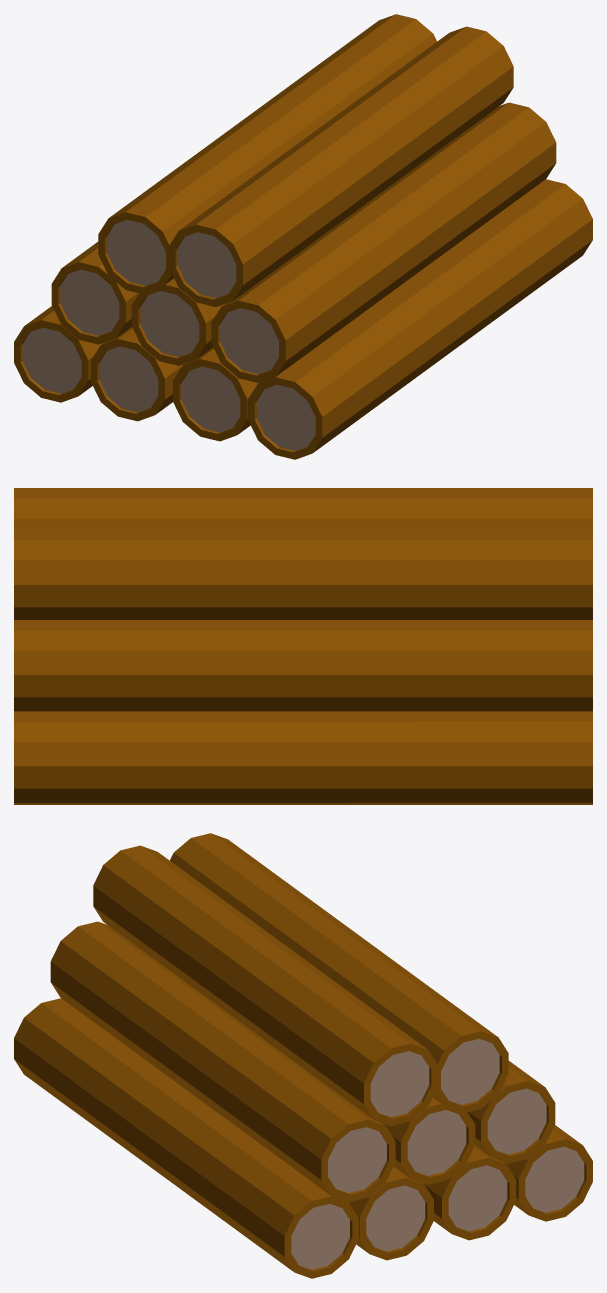
The model's file is 8K4i-xjd8Ep.glb.
3 views of the same model, one above another, from view 1: azimuth 30°, elevation 25°; view 2: azimuth 150°, elevation 25°; view 3: azimuth 270°, elevation 25° (orthographic). The views are drawn at different scales.
Parts seen in each view (by area): view 1: Cylinder001; view 2: Cylinder001; view 3: Cylinder001.
Part boxes in pixels (bbox=[...]): Cylinder001: bbox=[14, 14, 592, 459]; Cylinder001: bbox=[14, 488, 592, 804]; Cylinder001: bbox=[14, 833, 592, 1278].
Size of the model in its own units: 2.78 by 0.9999 by 2.49.
